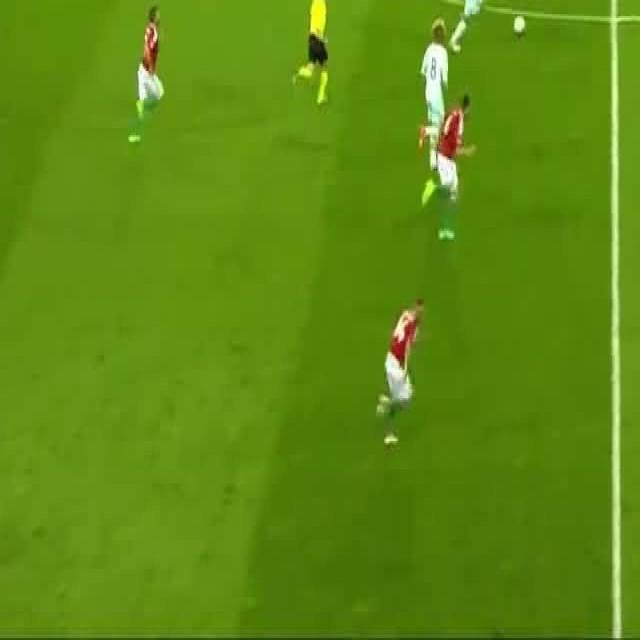ball: (514, 15, 526, 35)
player-white: (422, 91, 476, 242), (376, 300, 424, 450), (128, 6, 166, 147), (421, 21, 449, 175), (293, 0, 330, 105), (449, 0, 490, 50)
